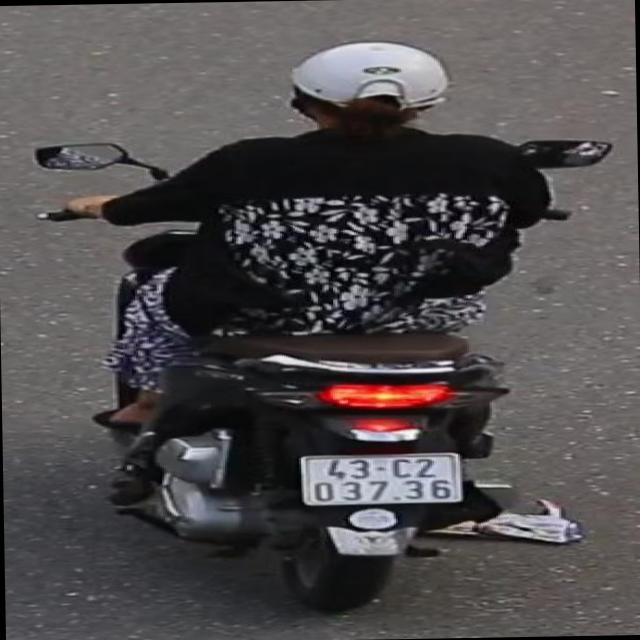LP: (291, 446, 466, 512)
helmet: (278, 33, 461, 142)
